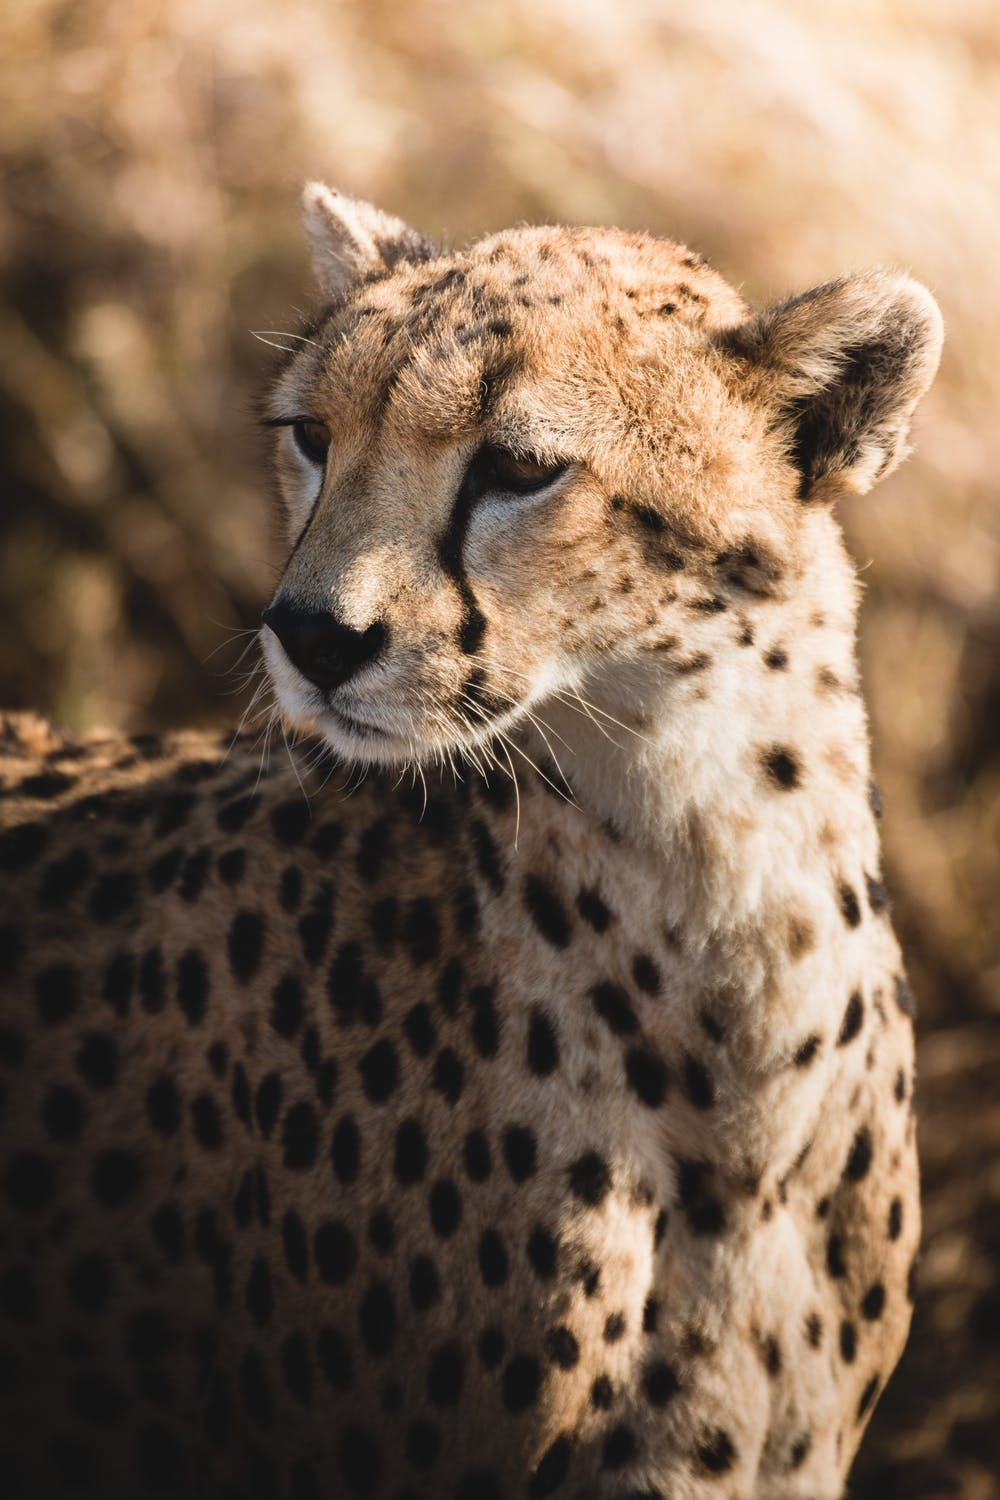cheetah: (196, 123, 973, 830)
